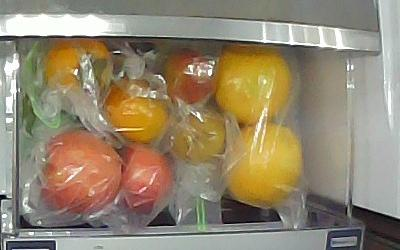apple_vinyl: (41, 131, 123, 217), (121, 144, 175, 213)
grapefruit_vinyl: (226, 125, 306, 208), (216, 44, 294, 125)
persimmon_vinyl: (105, 80, 170, 146), (45, 39, 112, 95)
prune_vinyl: (161, 50, 216, 108), (170, 109, 226, 164)
